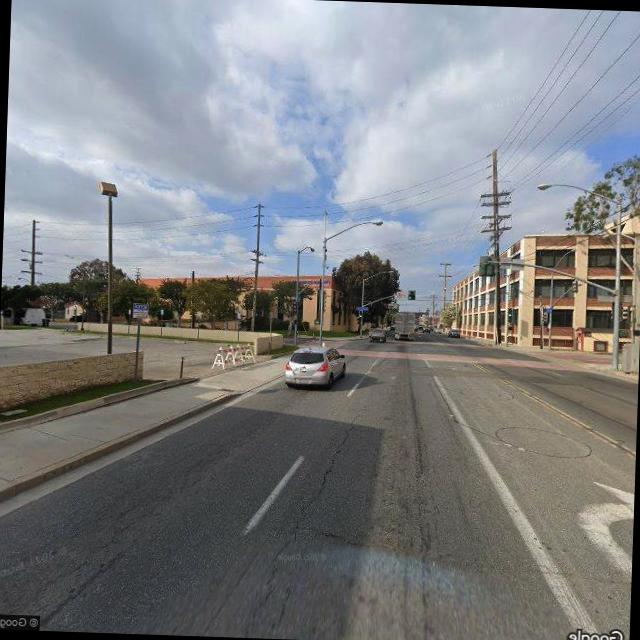crack: (292, 408, 362, 534)
